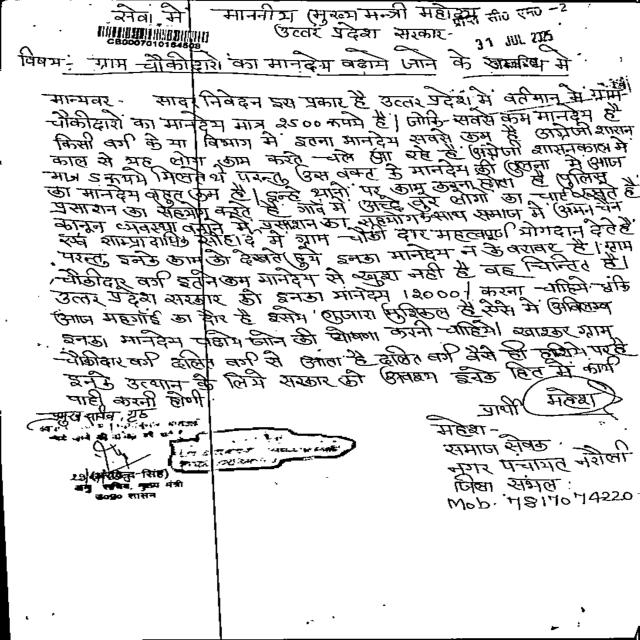barcode: (98, 21, 215, 54)
signnamestamp: (70, 438, 189, 515)
